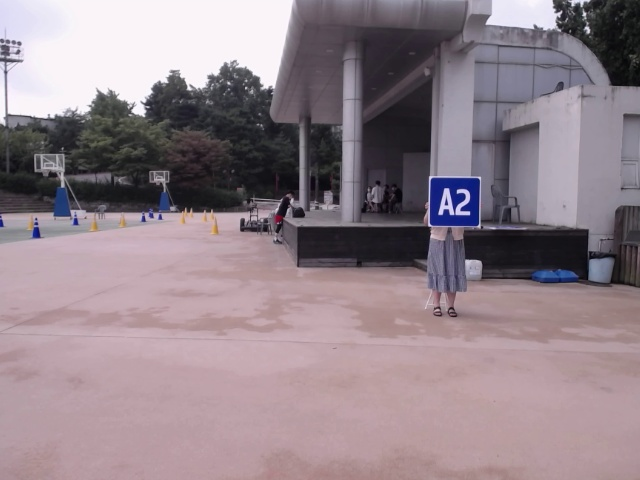delivery_a2: (430, 176, 481, 227)
